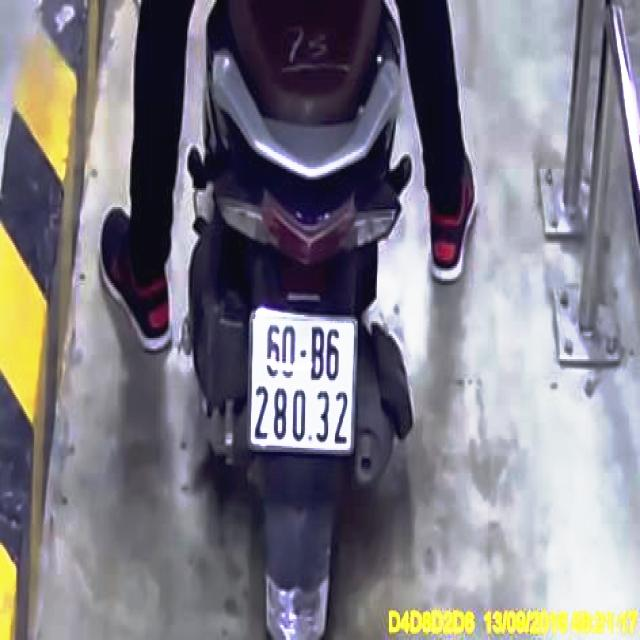license_plate: (251, 311, 361, 455)
